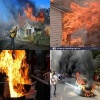fire: (59, 0, 100, 46), (0, 50, 28, 98), (75, 74, 97, 99), (19, 2, 44, 22)
